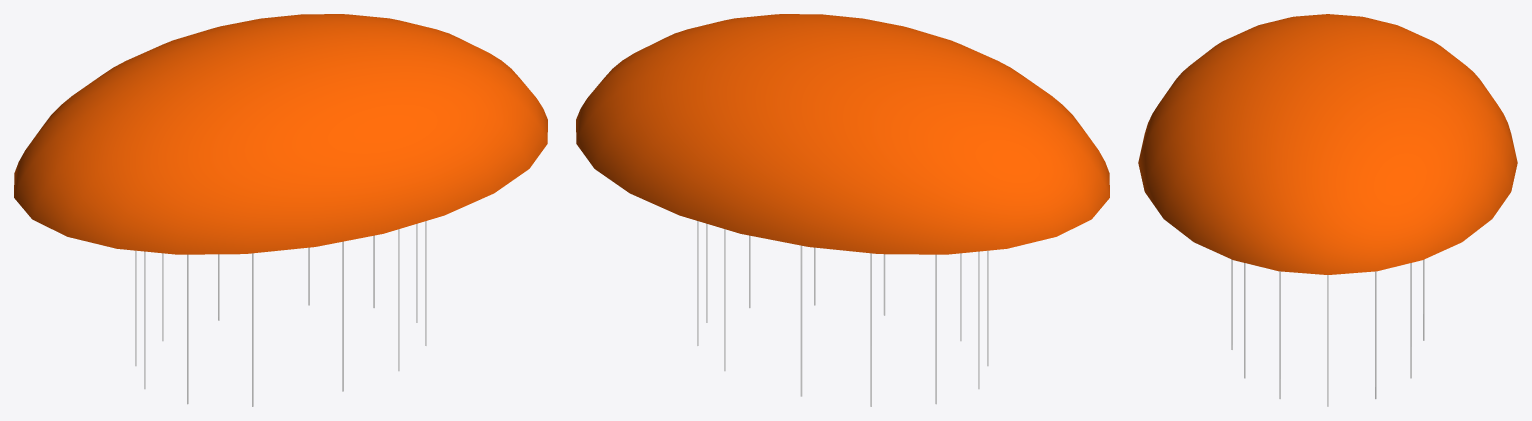
File: parachute.glb
3 views of the same model, side by side, from view 1: azimuth 30°, elevation 25°; view 2: azimuth 150°, elevation 25°; view 3: azimuth 270°, elevation 25° (orthographic). The views are drawn at different scales.
Parts seen in each view (by area): view 1: Parachute; view 2: Parachute; view 3: Parachute.
Boxes of the visible parts, x1,y1,x2,y2 form: Parachute: [14, 14, 547, 406]; Parachute: [576, 14, 1109, 406]; Parachute: [1138, 14, 1517, 406].
Bounding box in the file's own units: 9.7 × 5.78 × 6.93.
